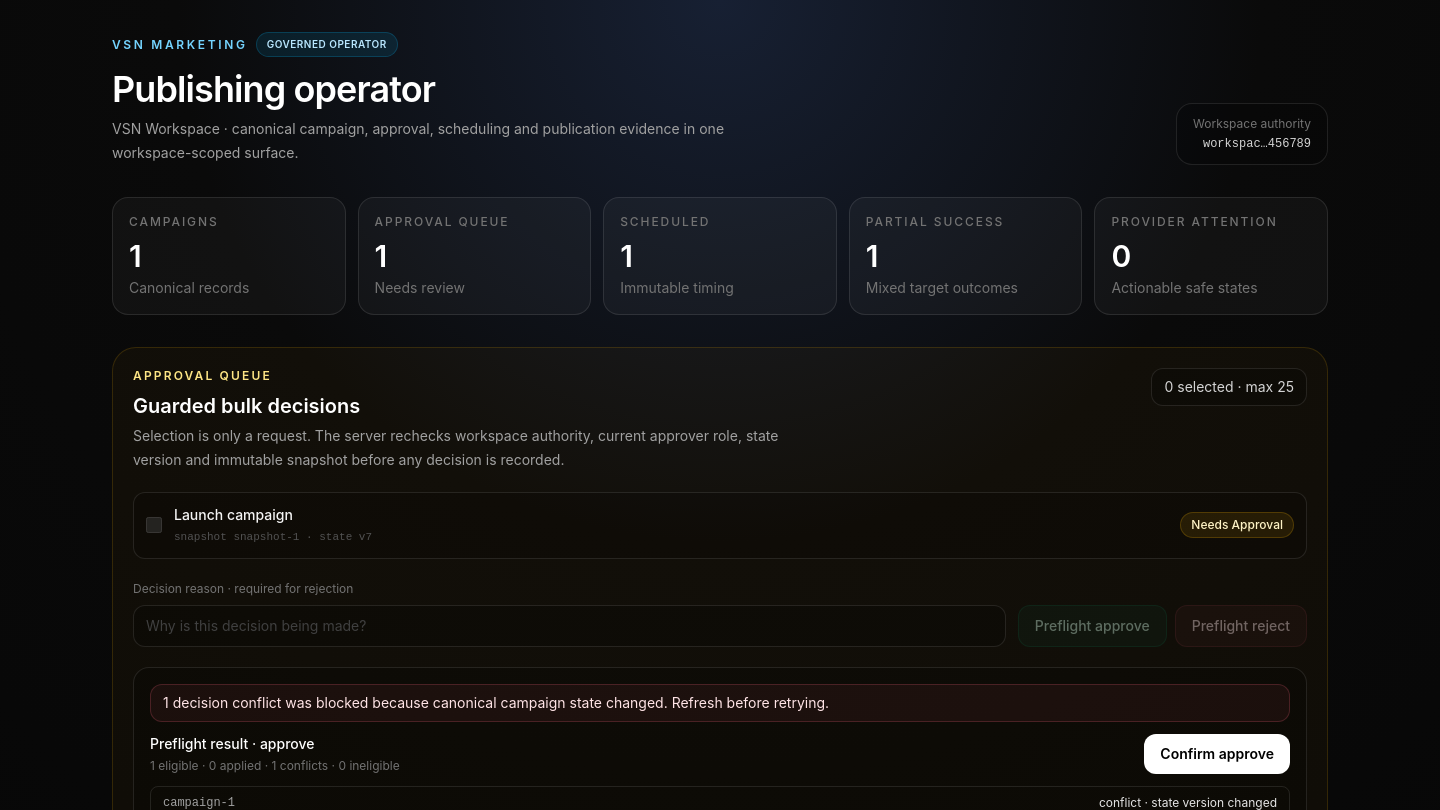
Test: announces canonical conflicts and prevents duplicate approval submission while busy
This screenshot has width=1440, height=810.
Expected: the message shows "canonical campaign state changed", [312,694,829,710]
Step 1. Click the button "Confirm approve" → (1217,754), box [1144,734,1290,774]
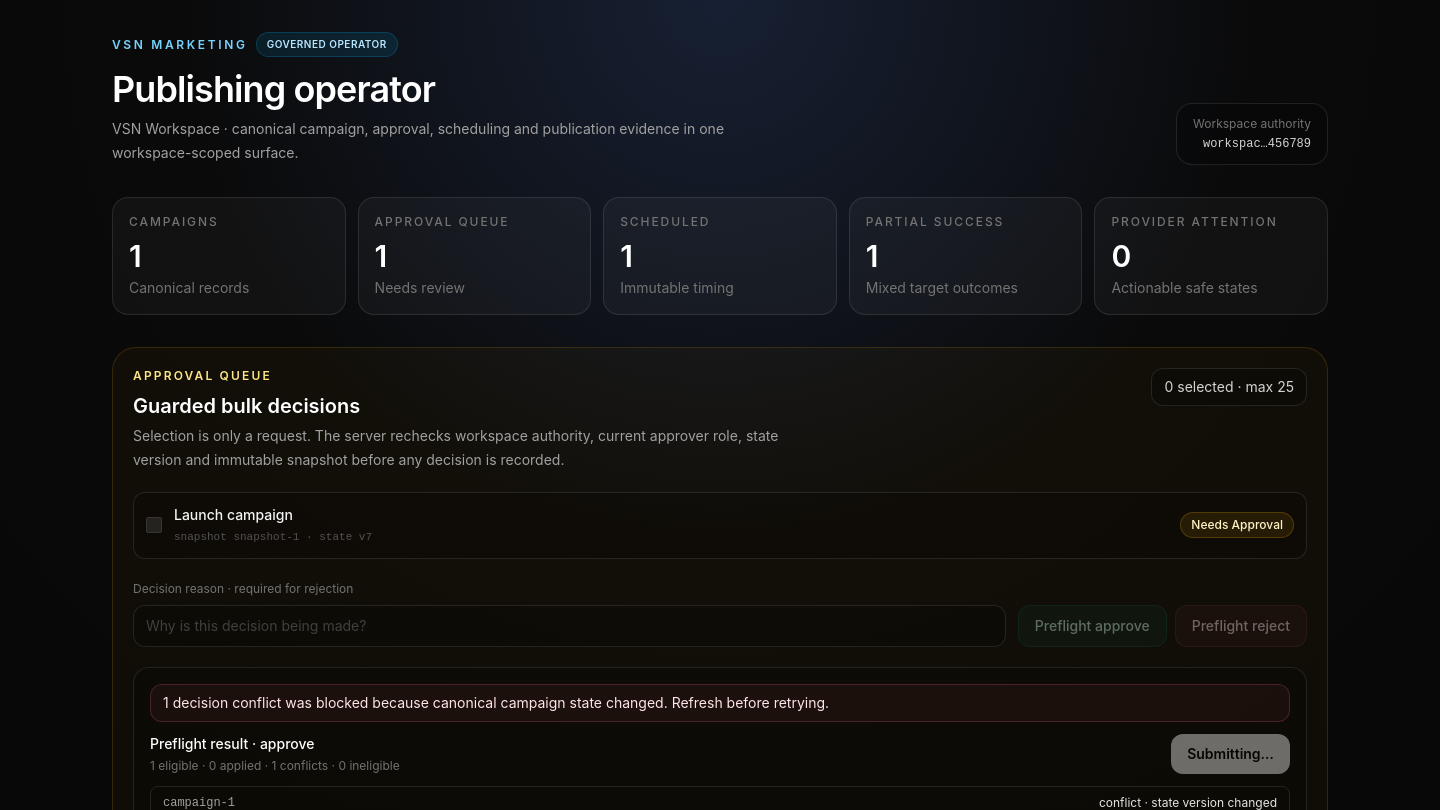
Now the button named "Confirm approve" is disabled, box [1171,734,1290,774]
